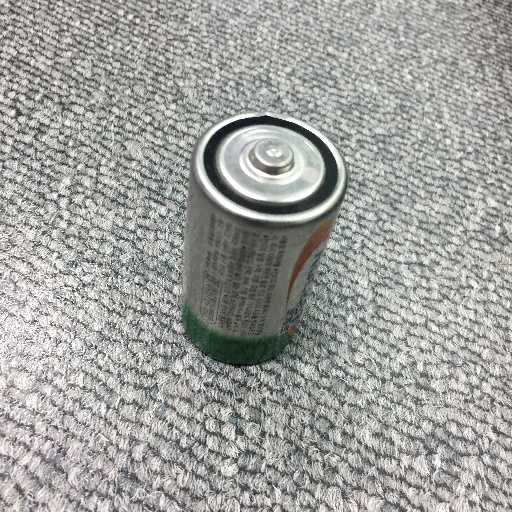Battery_0: (161, 93, 353, 377)
